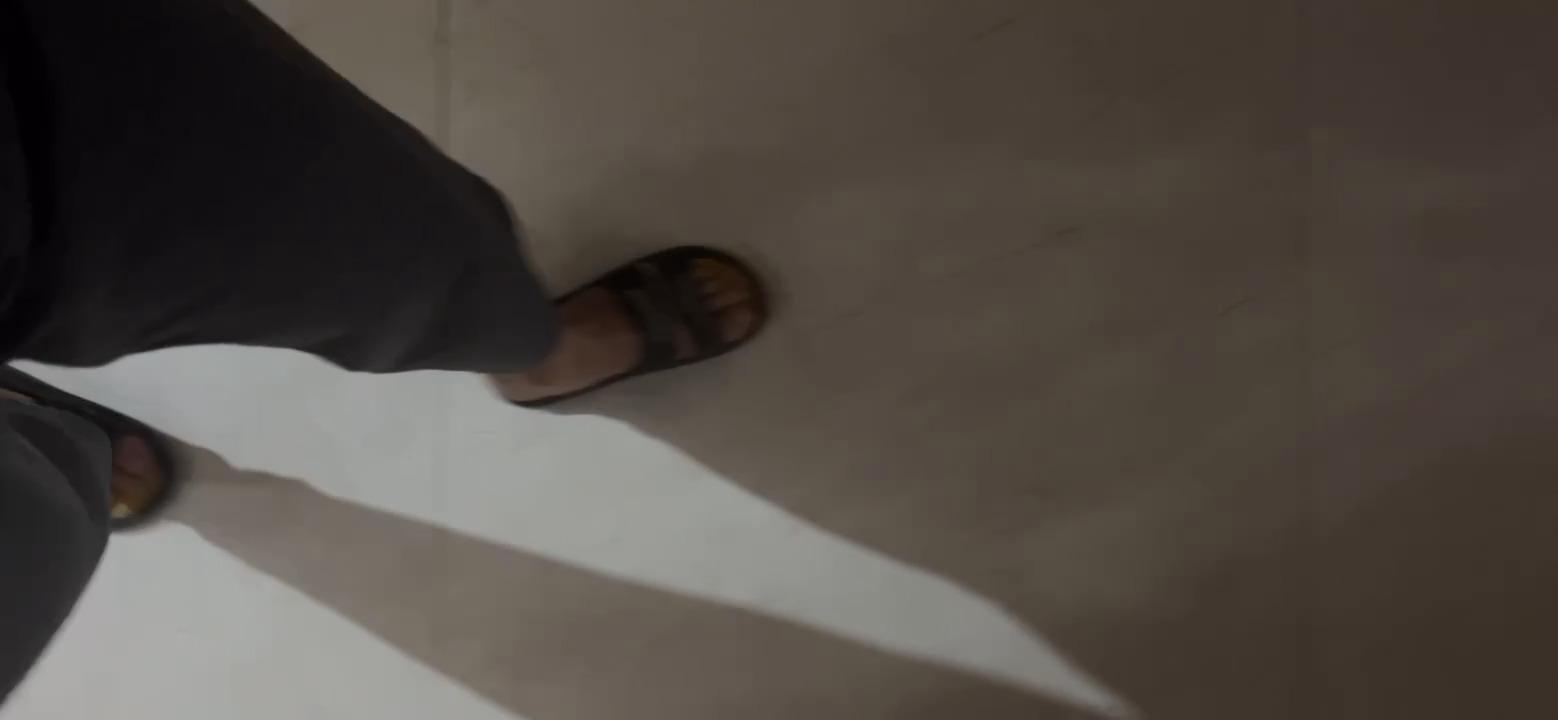no-boot: (471, 235, 794, 431)
